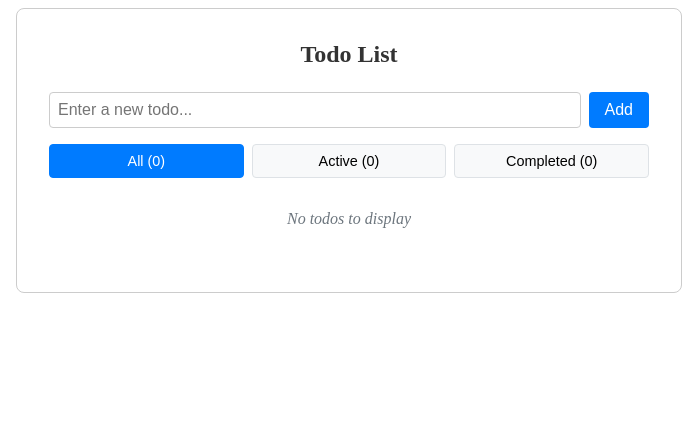
TodoList Component › Adding Todos › should add multiple todos
Type "Buy groceries" into the field with test id "todo-input".
click(315, 110); type("Buy groceries")  # box [49,92,580,128]
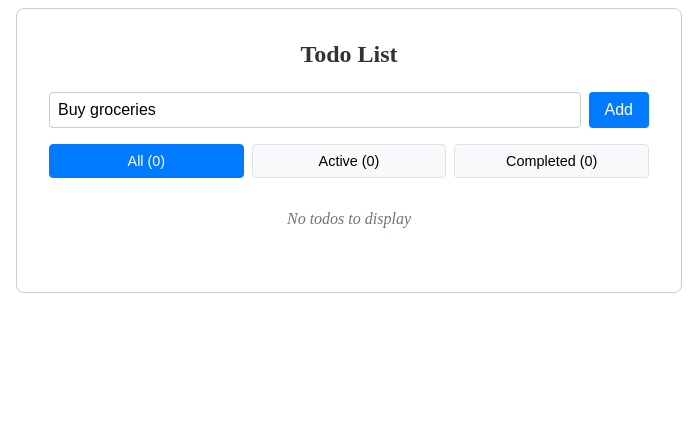
Click the button with test id "todo-add-button".
click(619, 110)  # box [588,92,649,128]
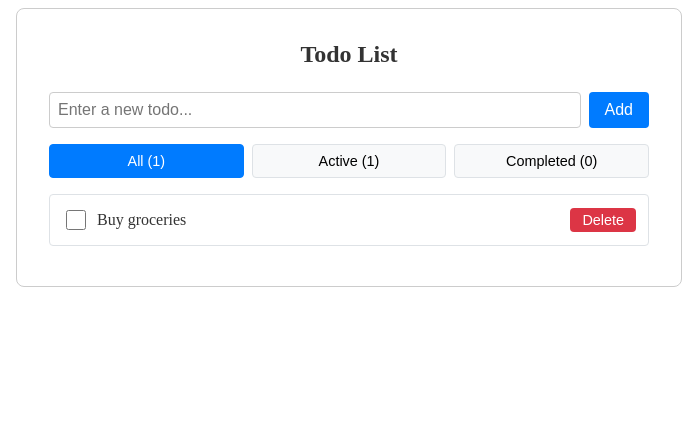
Type "Walk the dog" into the field with test id "todo-input".
click(315, 110); type("Walk the dog")  # box [49,92,580,128]
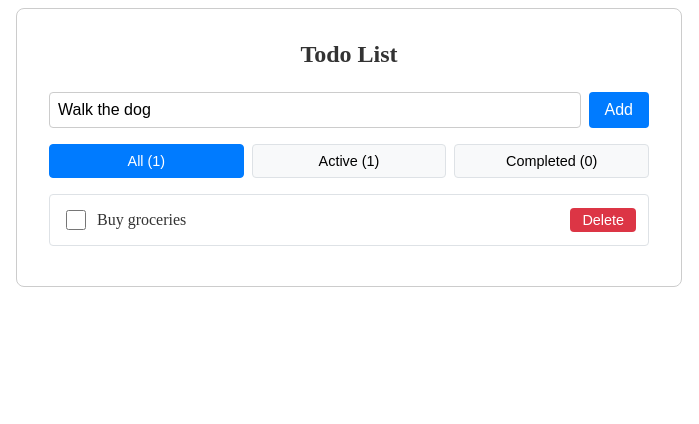
Click the button with test id "todo-add-button".
click(619, 110)  # box [588,92,649,128]
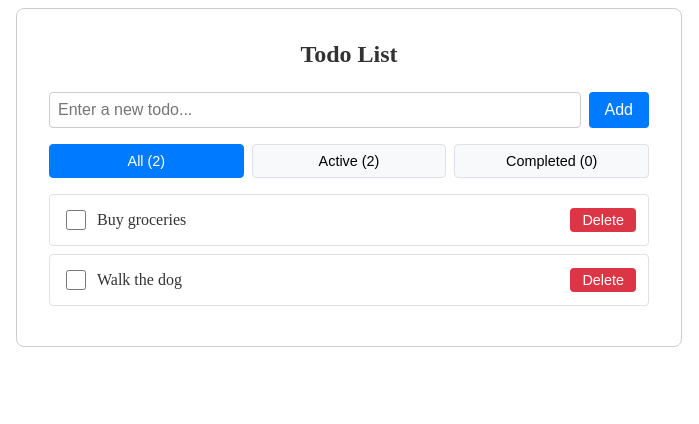
Type "Read a book" into the field with test id "todo-input".
click(315, 110); type("Read a book")  # box [49,92,580,128]
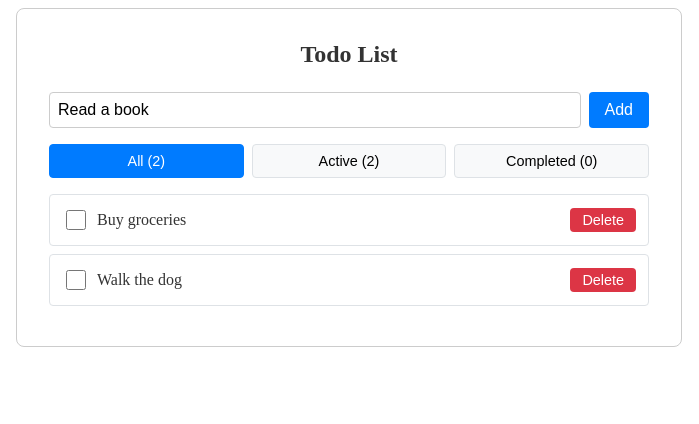
Click the button with test id "todo-add-button".
click(619, 110)  # box [588,92,649,128]
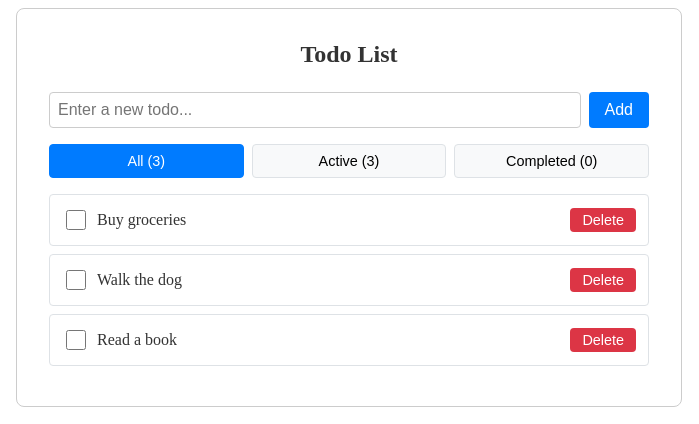
Check: the text "Buy groceries" is shown, box [97,211,186,228]
Check: the text "Walk the dog" is shown, box [97,271,182,288]
Check: the text "Read a book" is shown, box [97,331,177,348]
